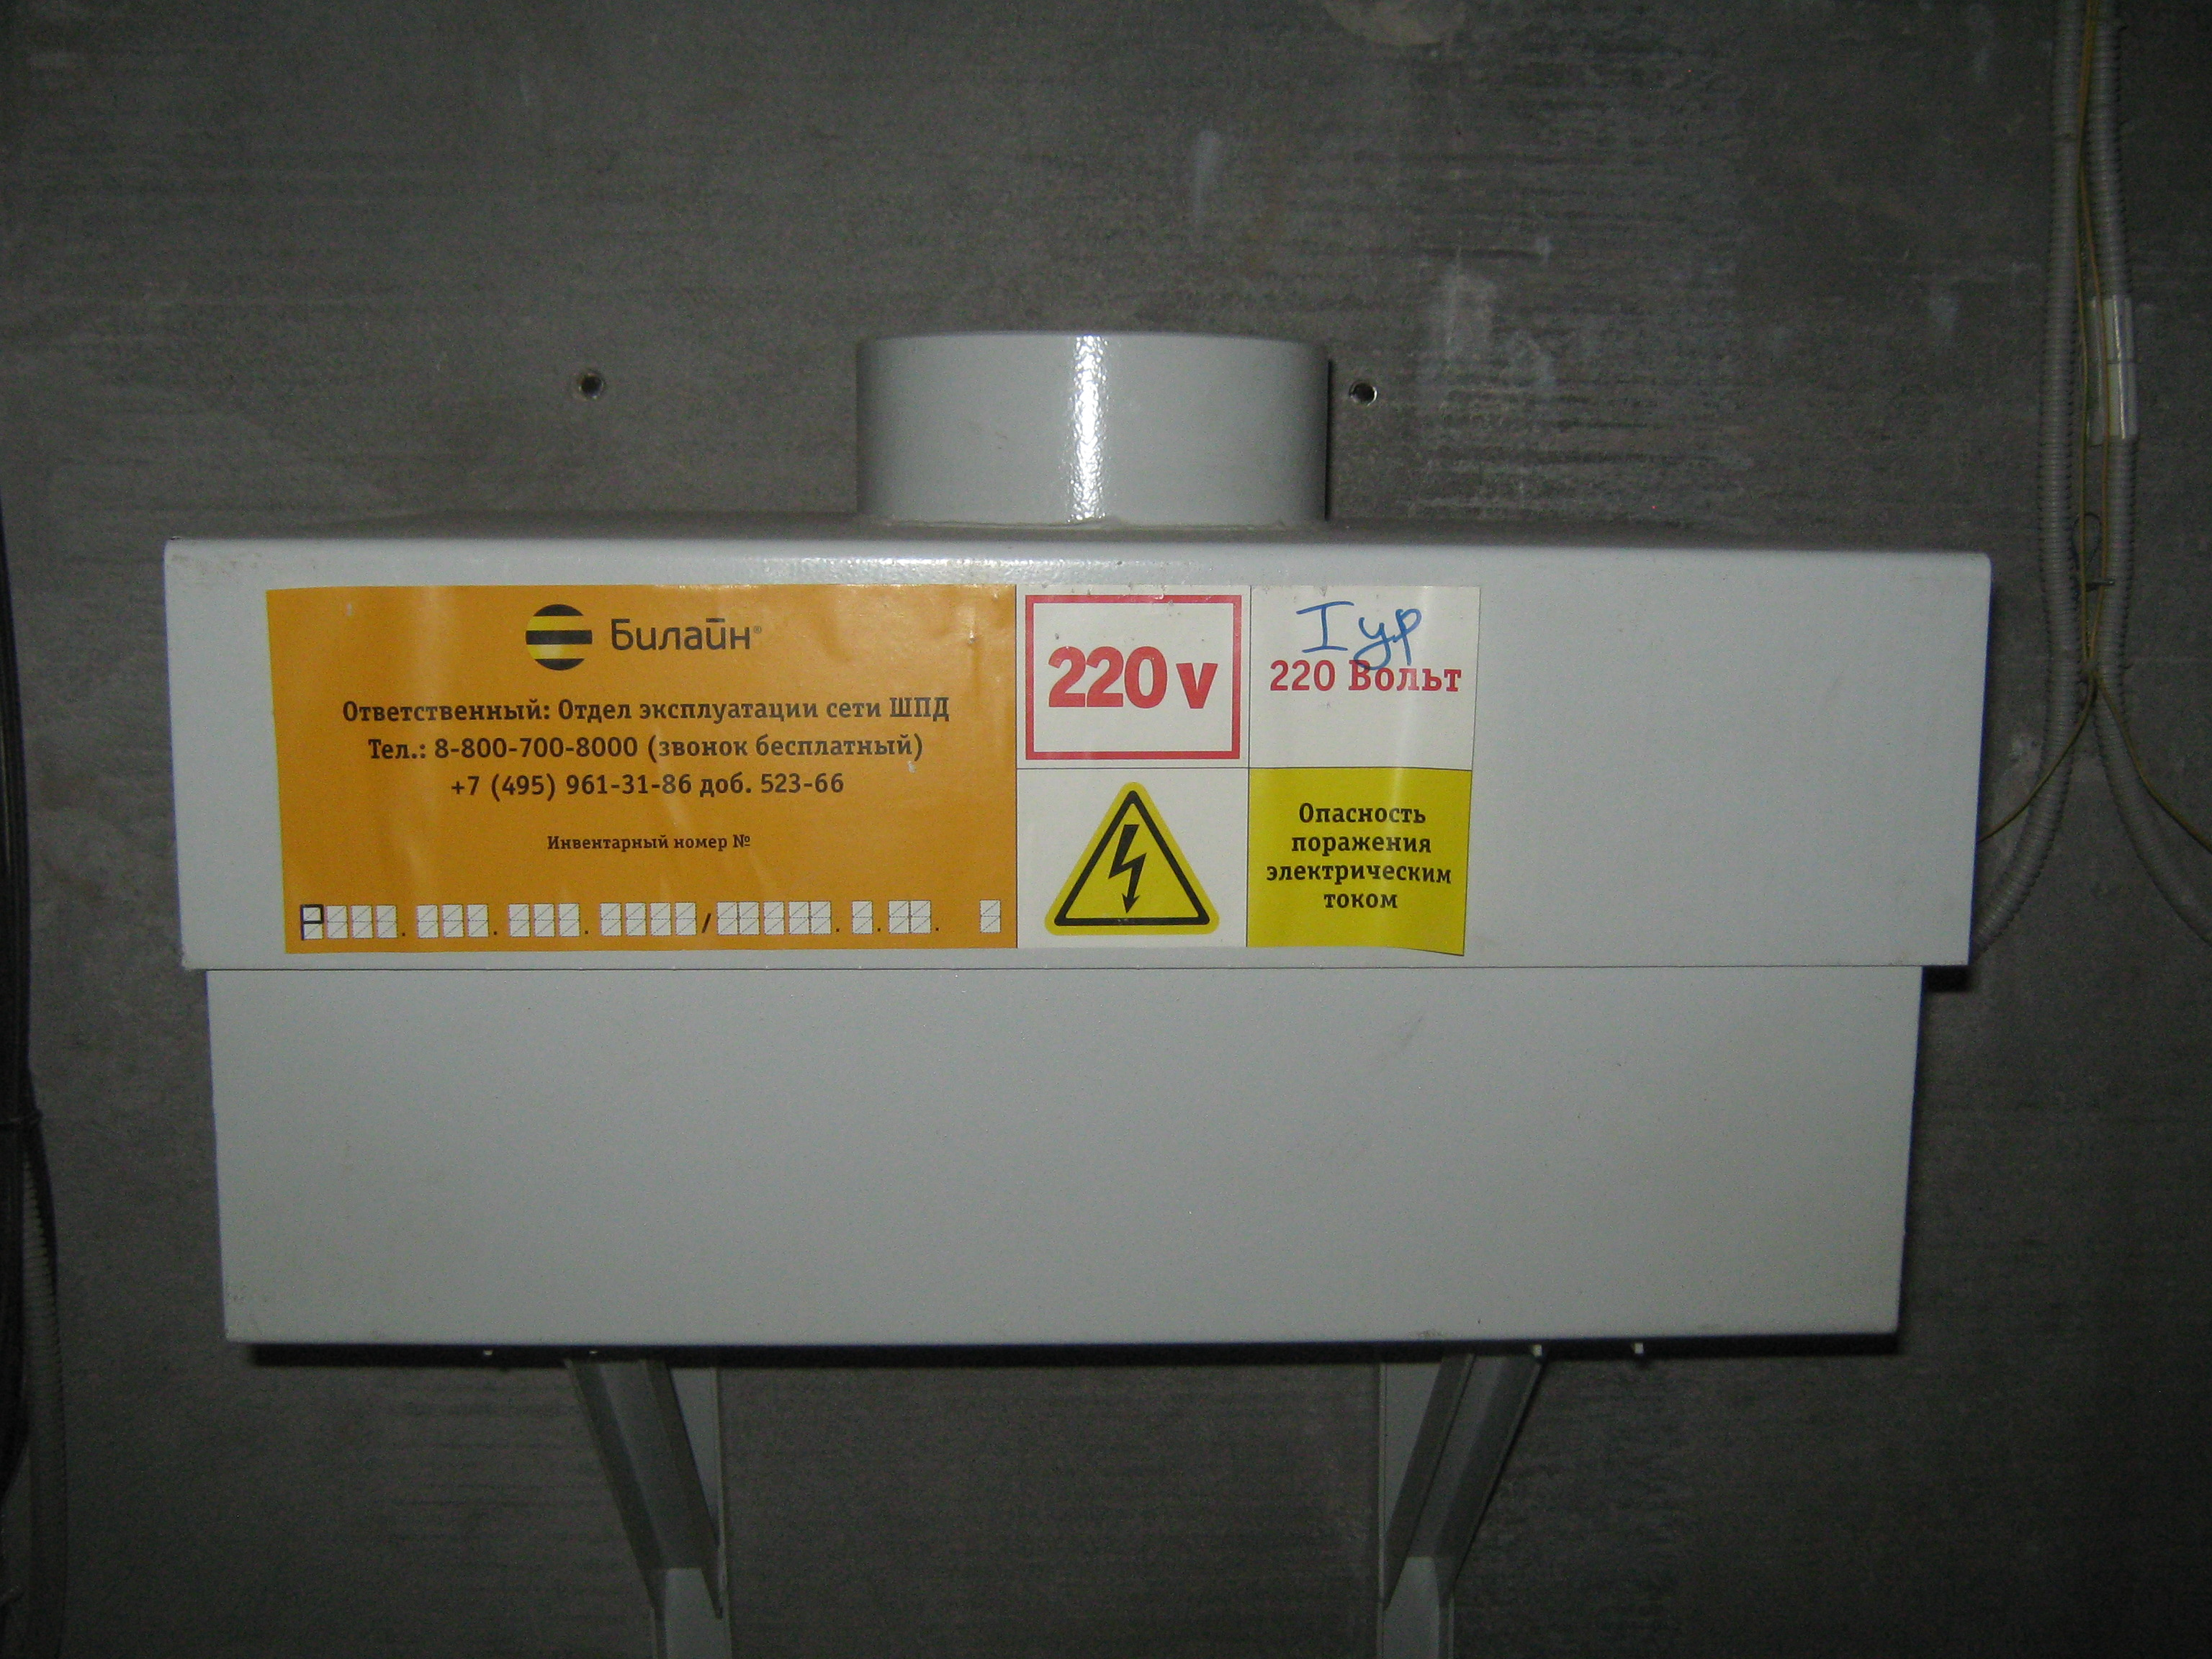shta-ps: (148, 315, 2015, 1368)
